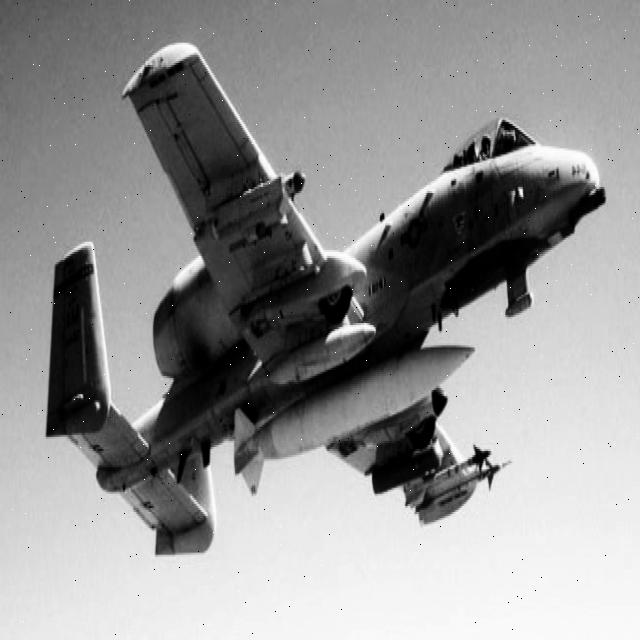A10: (43, 26, 618, 593)
